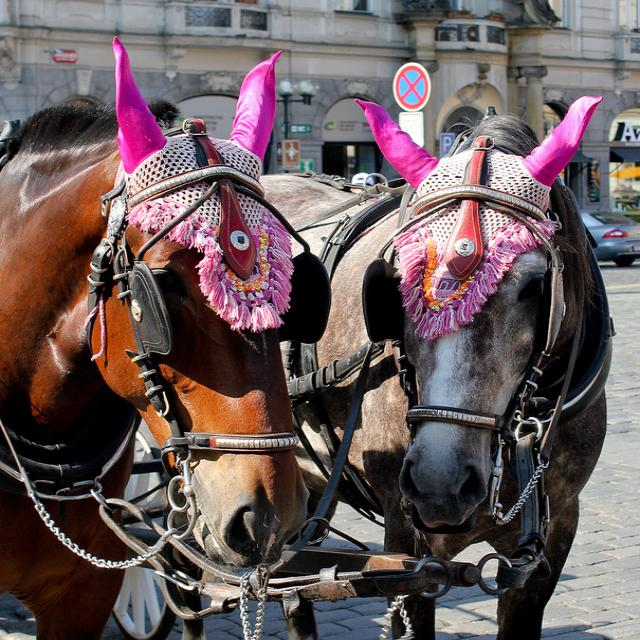Vehicle: (582, 211, 640, 267)
